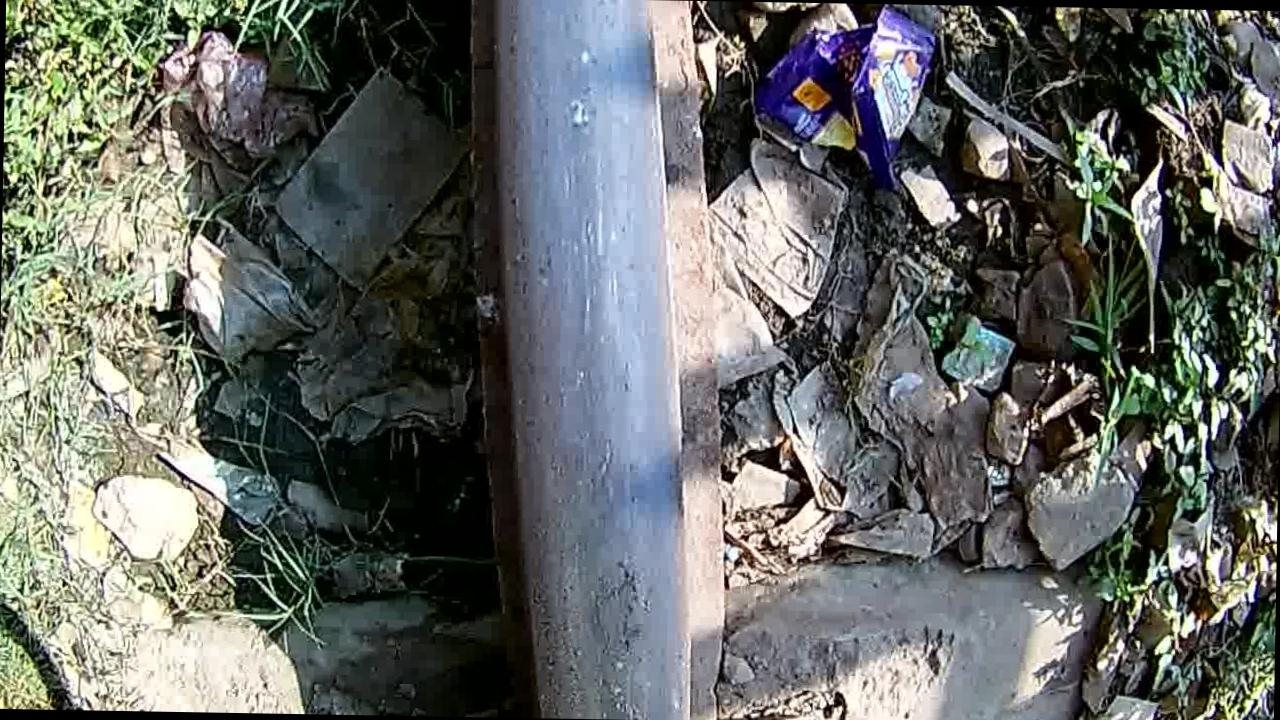bolt_missing: (482, 0, 681, 720)
